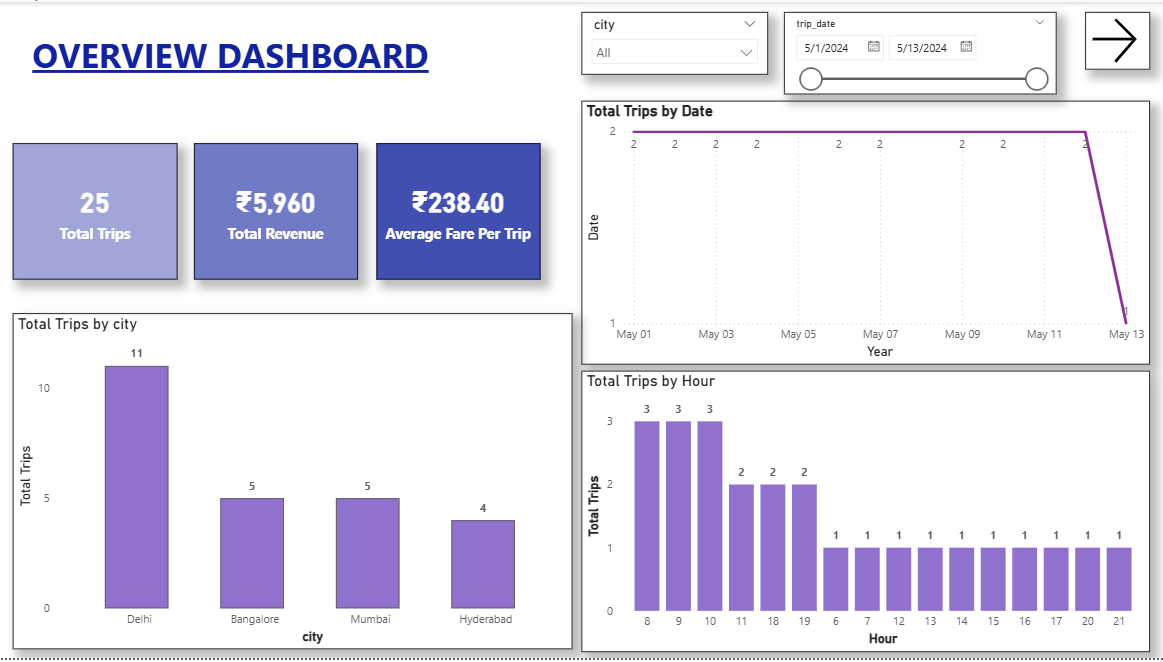

What the dashboard file says about the page in this screenshot:
{"tool":"powerbi","page":{"name":"Page 1","canvas":[1280,720],"ordinal":0},"visuals":[{"type":"textbox","box":[31.6,27.4,547.5,74.1],"z":0},{"type":"card","fields":{"Values":["trips.Total Trips"]},"box":[15.1,155.1,181.1,149.6],"z":1000},{"type":"card","fields":{"Values":["trips.Total Revenue"]},"box":[214.1,155.1,179.8,149.6],"z":2000},{"type":"card","fields":{"Values":["trips.Average Fare Per Trip"]},"box":[415,155.1,179.8,149.6],"z":3000},{"type":"lineChart","title":"Total Trips by Date","fields":{"Category":["trips.trip_date.Variation.Date Hierarchy.Year","trips.trip_date.Variation.Date Hierarchy.Quarter","trips.trip_date.Variation.Date Hierarchy.Month","trips.trip_date.Variation.Date Hierarchy.Day"],"Y":["trips.Total Trips"]},"box":[639.5,108.4,624.4,289.5],"z":4000},{"type":"columnChart","fields":{"Y":["trips.Total Trips"],"Category":["drivers (1).city"]},"box":[15.1,341.7,614.8,369.1],"z":5000},{"type":"columnChart","fields":{"Category":["trips.Hour"],"Y":["trips.Total Trips"]},"box":[639.5,404.8,624.4,308.7],"z":6000},{"type":"slicer","fields":{"Values":["drivers (1).city"]},"box":[639.5,11,204.5,68.6],"z":7000},{"type":"slicer","fields":{"Values":["trips.trip_date"]},"box":[861.8,11,299.1,90.6],"z":8000},{"type":"actionButton","box":[1192.5,11,71.4,63.1],"z":9000}]}

Visuals, with their boxes in screenshot pixels (x1, y1, x2, y2), scaled from the page's 1280x720 canvas onto the 1163x662 screenshot:
textbox: [29,25,526,93]
card - trips.Total Trips: [14,143,178,280]
card - trips.Total Revenue: [195,143,358,280]
card - trips.Average Fare Per Trip: [377,143,540,280]
"Total Trips by Date" lineChart: [581,100,1148,366]
columnChart - trips.Total Trips x drivers (1).city: [14,314,572,654]
columnChart - trips.Hour x trips.Total Trips: [581,372,1148,656]
slicer - drivers (1).city: [581,10,767,73]
slicer - trips.trip_date: [783,10,1055,93]
actionButton: [1083,10,1148,68]
